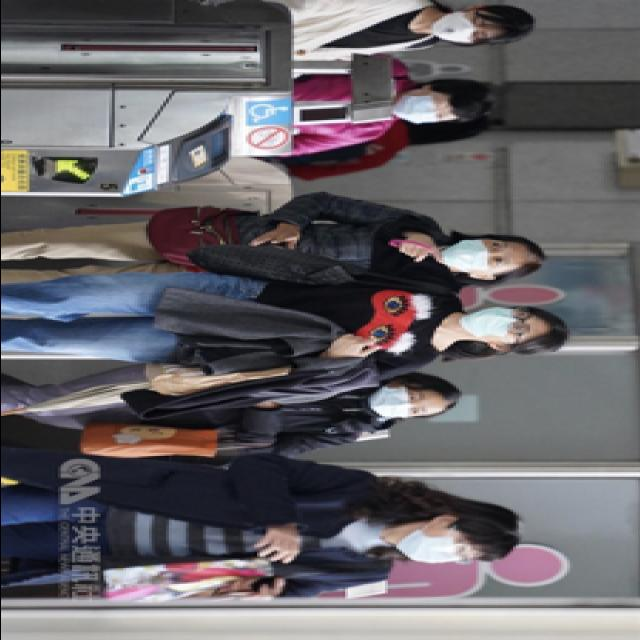with_mask: (392, 528, 478, 565), (458, 306, 540, 342), (438, 236, 515, 274), (367, 384, 432, 418), (390, 90, 452, 124), (430, 9, 492, 42)
